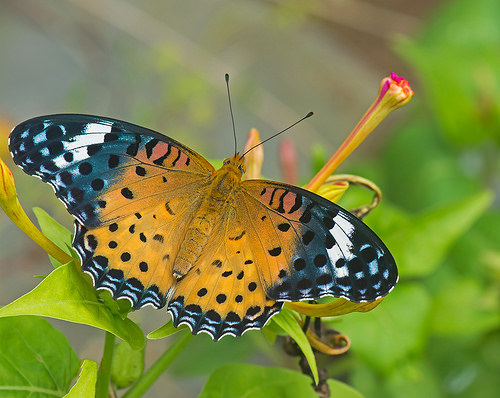Argyreus hyperbius: (4, 70, 401, 336)
butterfly: (6, 72, 403, 338)
